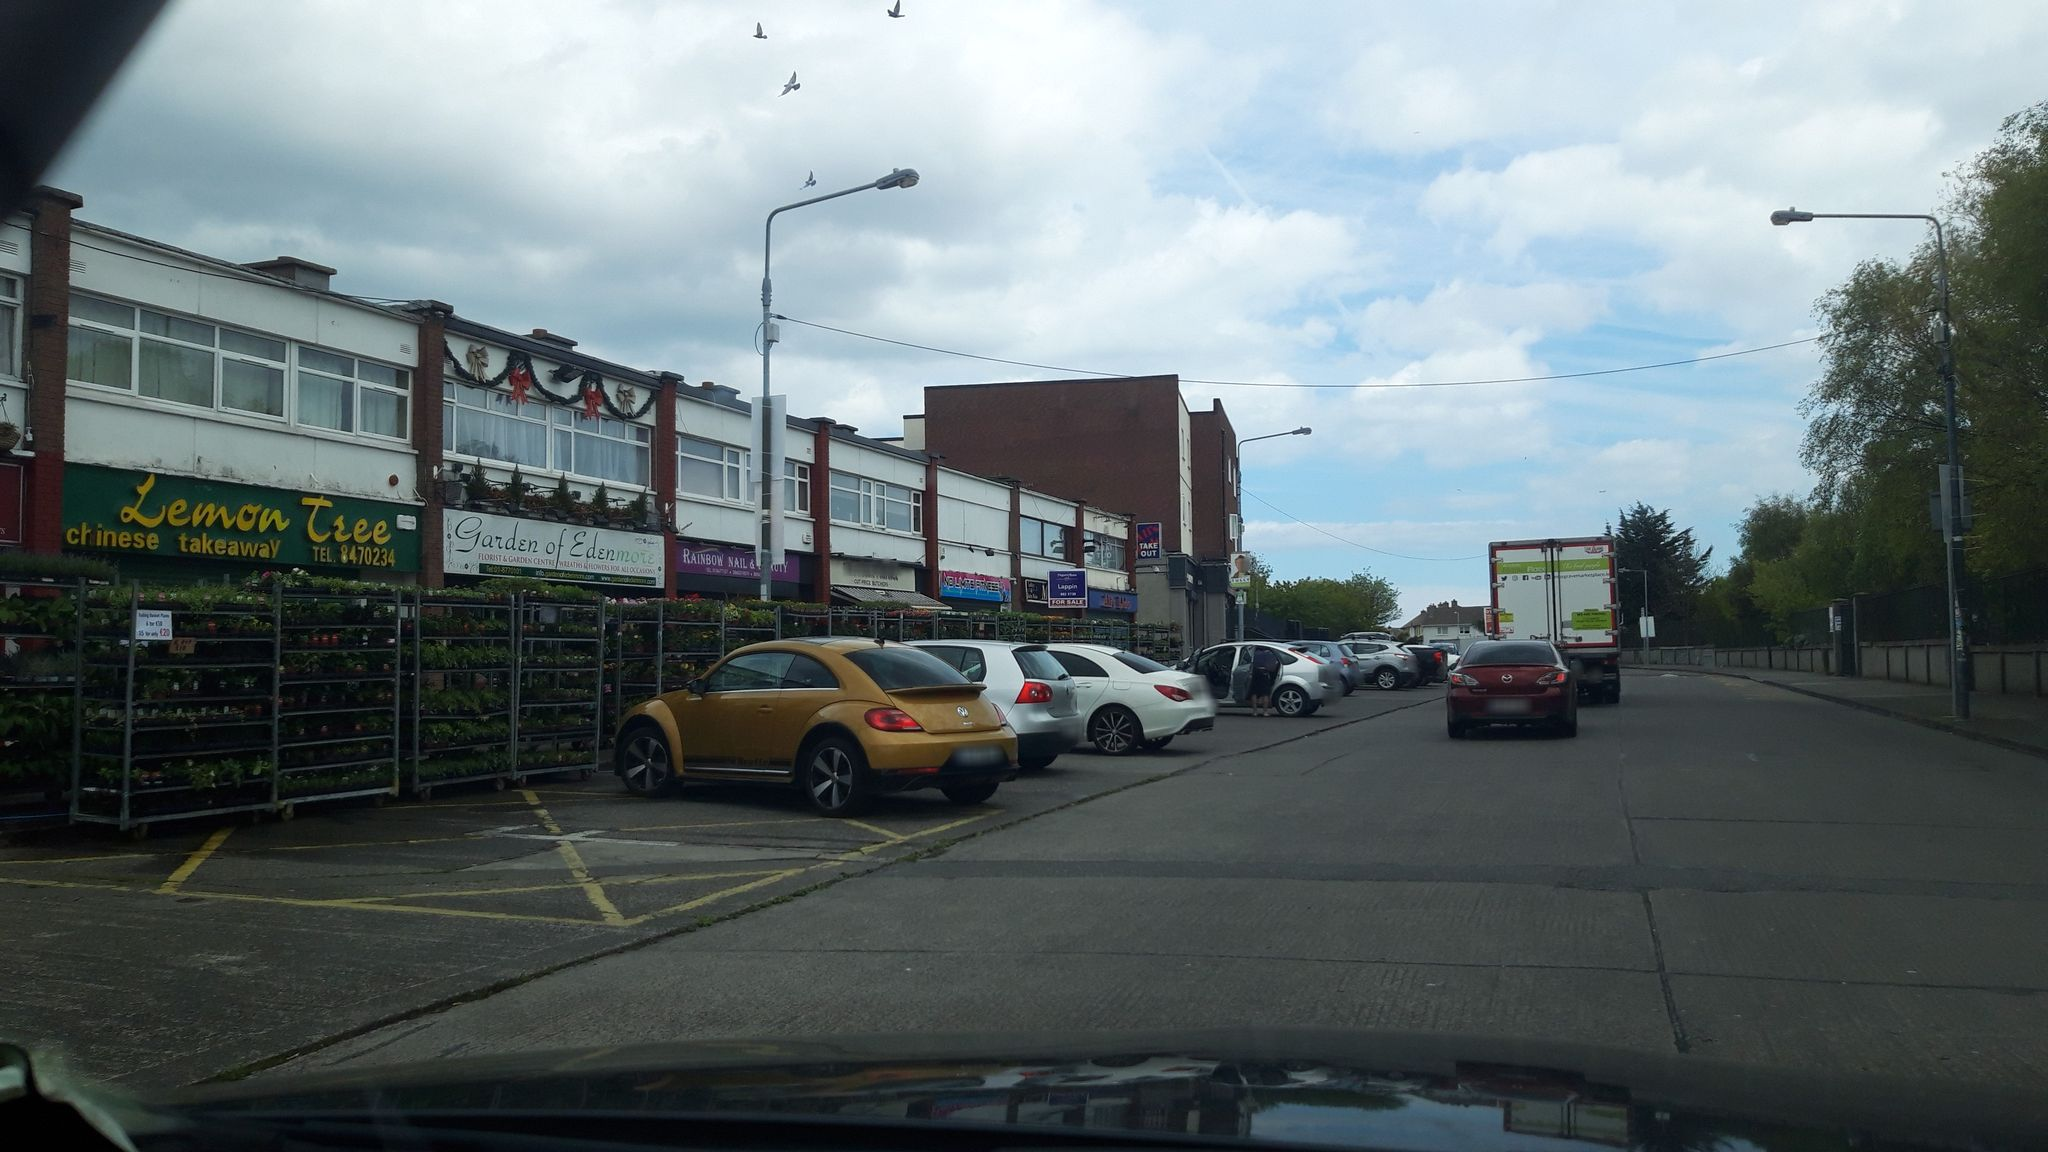property sign: (1038, 553, 1097, 617)
